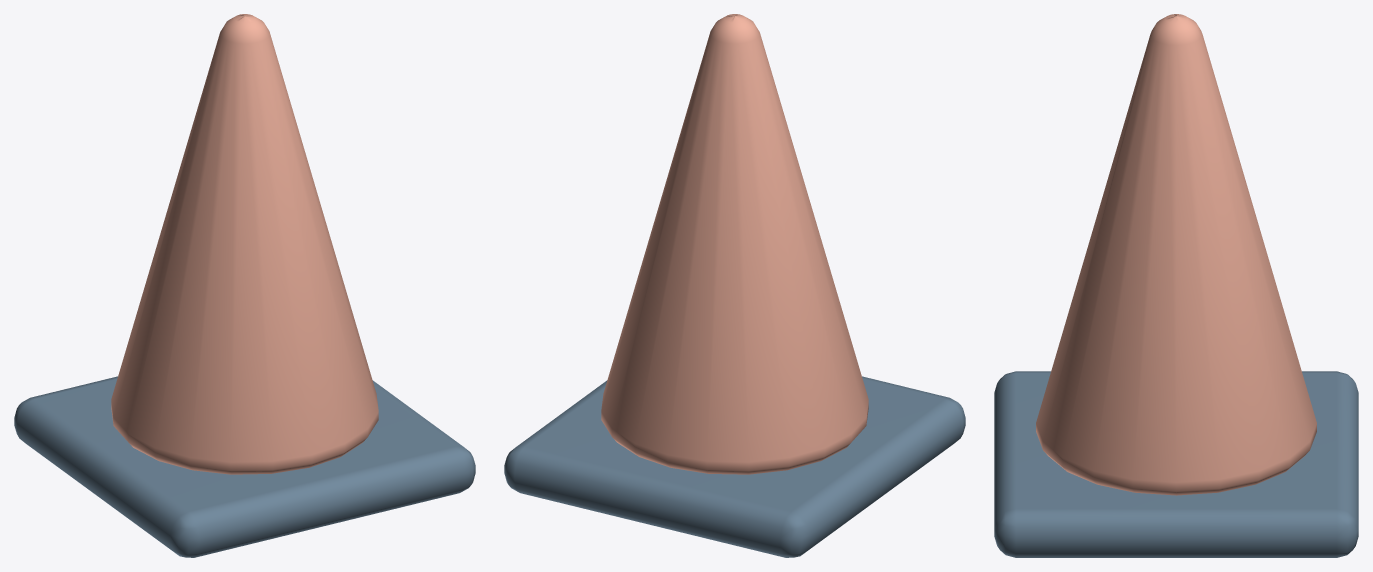
3 renders of one model, left to right at view 1: azimuth 30°, elevation 25°; view 2: azimuth 150°, elevation 25°; view 3: azimuth 270°, elevation 25°, orthographic. The views are drawn at different scales.
Parts seen in each view (by area): view 1: Cone, Base; view 2: Cone, Base; view 3: Cone, Base.
Part boxes in pixels (x1,y1,x2,y2): Cone: (111, 14, 378, 474); Base: (14, 376, 475, 557); Cone: (601, 14, 868, 474); Base: (504, 376, 965, 557); Cone: (1036, 14, 1316, 495); Base: (994, 371, 1358, 557).
Bounding box in the file's own units: 35 × 50 × 35.
